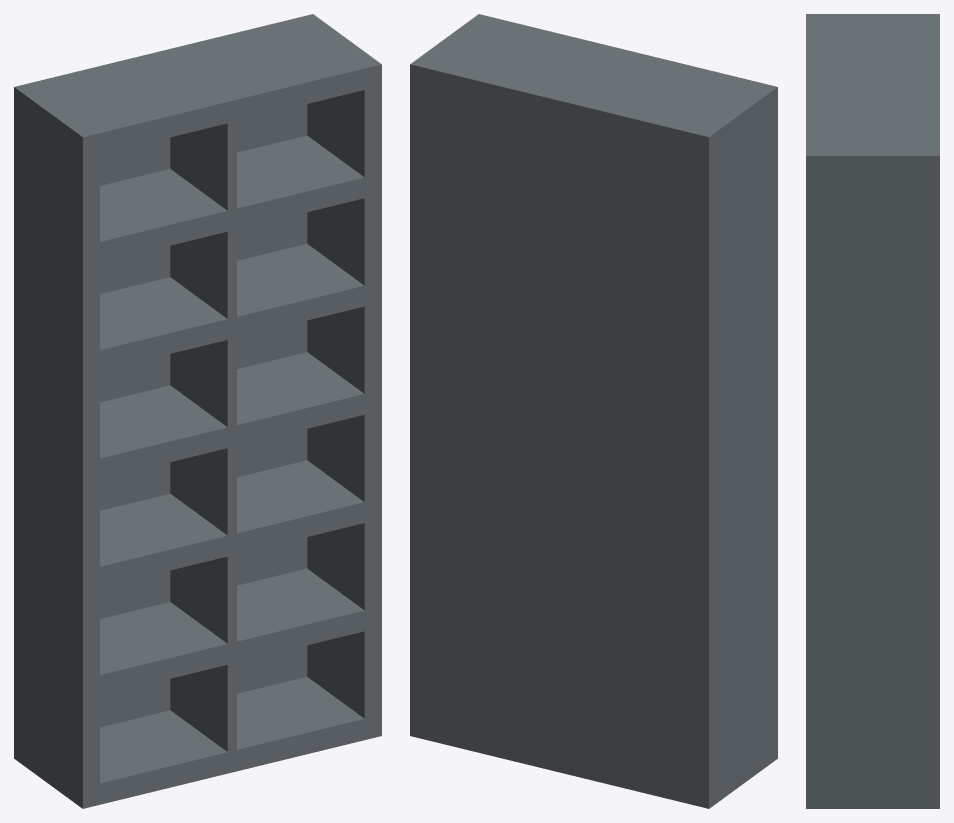
Rendered from Armario01.fbx.
The picture shows the model from 3 angles, left to right: view 1: azimuth 30°, elevation 25°; view 2: azimuth 150°, elevation 25°; view 3: azimuth 270°, elevation 25°; orthographic projection. The views are drawn at different scales.
Visible parts, largest first — view 1: Cube; view 2: Cube; view 3: Cube.
Boxes of the visible parts, x1=… form: Cube: x1=14, y1=14, x2=381, y2=808; Cube: x1=410, y1=14, x2=777, y2=808; Cube: x1=806, y1=14, x2=939, y2=808.
Bounding box in the file's own units: 502 × 1078 × 200.
